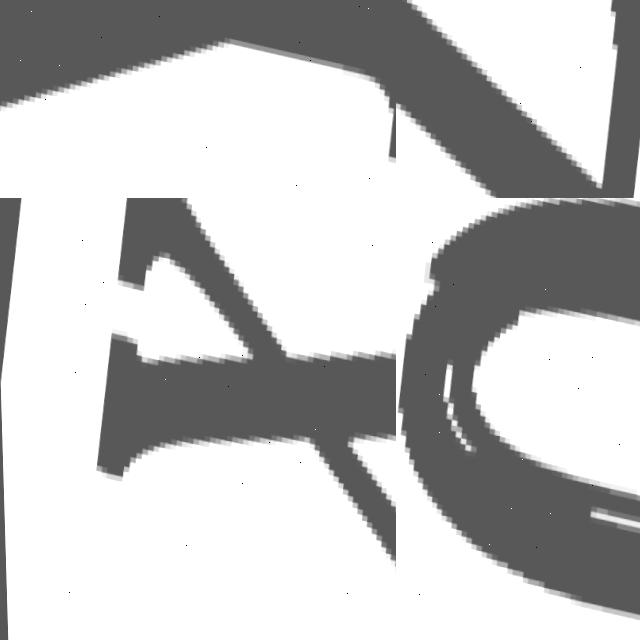0: (396, 198, 640, 640)
X: (52, 198, 396, 640)
Y: (0, 0, 396, 198)
Z: (396, 0, 640, 198)
